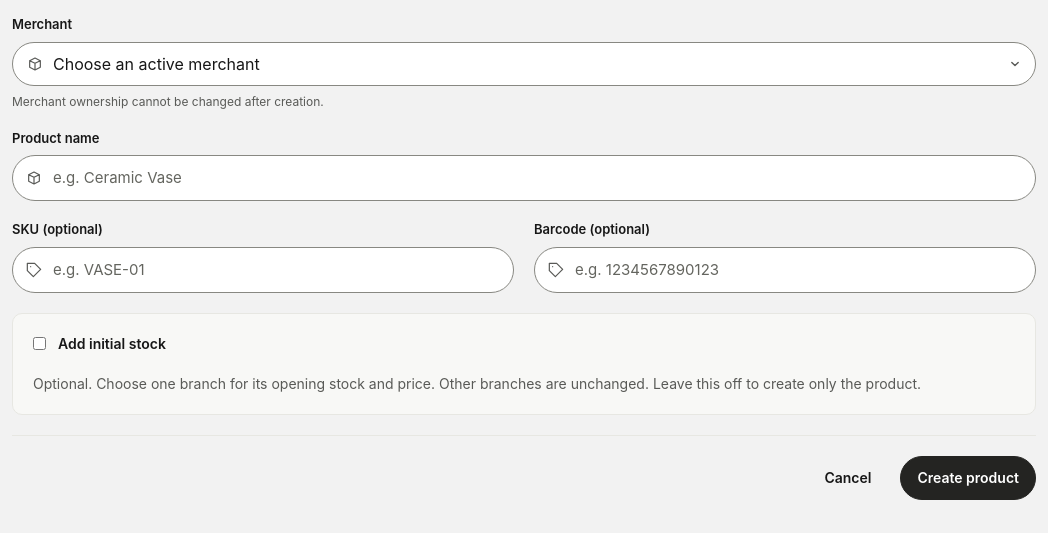
it: Optional new-product opening stock › explains an empty branch directory without falling back to product-only creation
Click the checkbox at (40, 344), box 33,337 -> 46,350
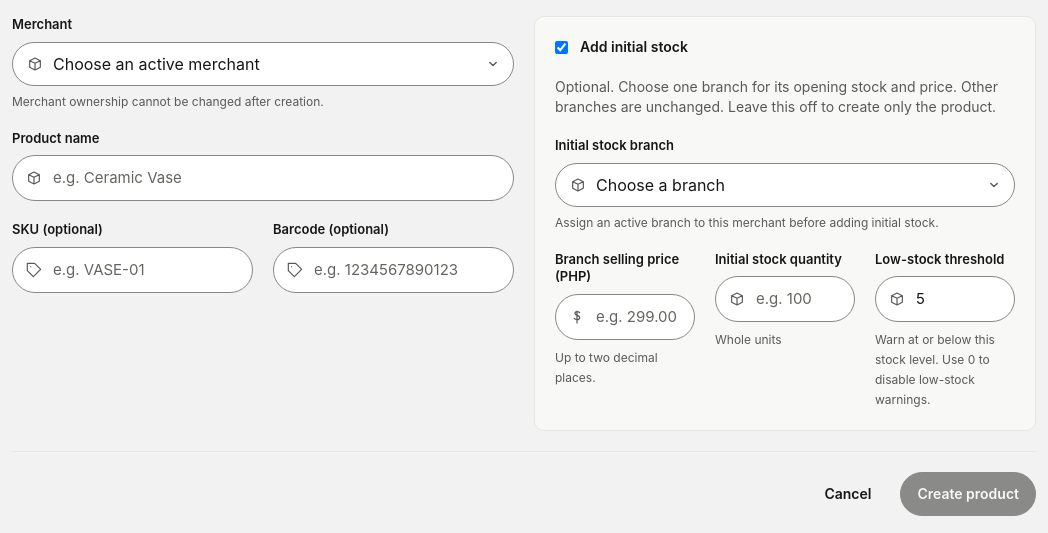
Now the text "Assign an active branch to this merchant before adding initial stock." is shown, box 555,214 -> 939,230
Now the button "Create product" is disabled, box 900,472 -> 1036,516
